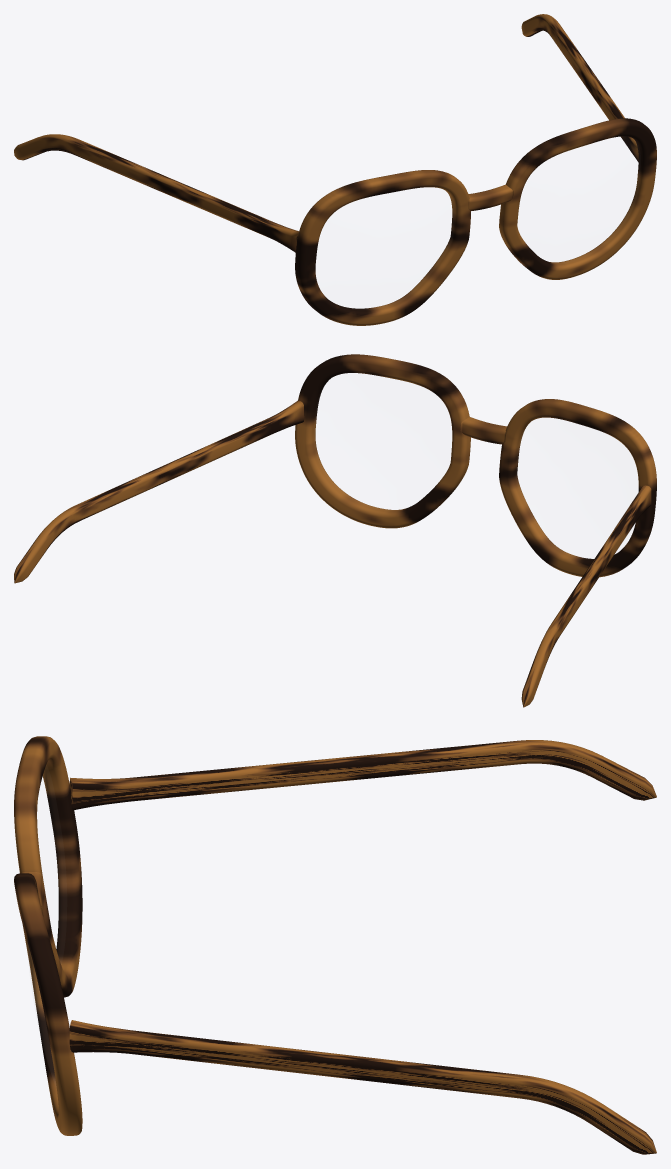
File: panto-tortoise.glb
The picture shows the model from 3 angles, top to bottom: view 1: azimuth 30°, elevation 25°; view 2: azimuth 150°, elevation 25°; view 3: azimuth 270°, elevation 25°; orthographic projection. The views are drawn at different scales.
Parts seen in each view (by area): view 1: glasses; view 2: glasses; view 3: glasses.
Part boxes in pixels (x1,y1,x2,y2): glasses: [14, 14, 656, 325]; glasses: [14, 354, 656, 707]; glasses: [14, 736, 656, 1154].
Size of the model in its own units: 0.1832 by 0.0528 by 0.1382.
2 materials, 1 textured.
